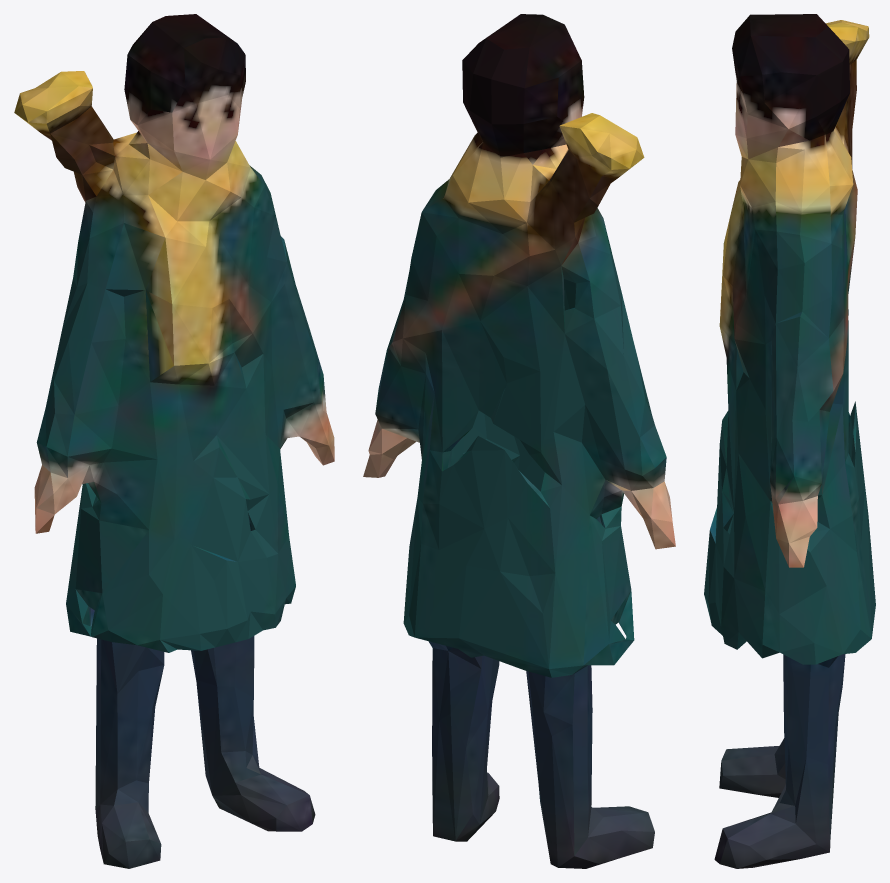
Rendered from habitant-loin.glb.
3 renders of one model, left to right at view 1: azimuth 30°, elevation 25°; view 2: azimuth 150°, elevation 25°; view 3: azimuth 270°, elevation 25°, orthographic.
Parts seen in each view (by area): view 1: habitant; view 2: habitant; view 3: habitant.
Boxes of the visible parts, <box> form: habitant: <box>14,14,334,868</box>; habitant: <box>363,14,675,868</box>; habitant: <box>704,14,875,868</box>.
Size of the model in its own units: 0.3969 by 1.02 by 0.1961.
1 material, 1 textured.
